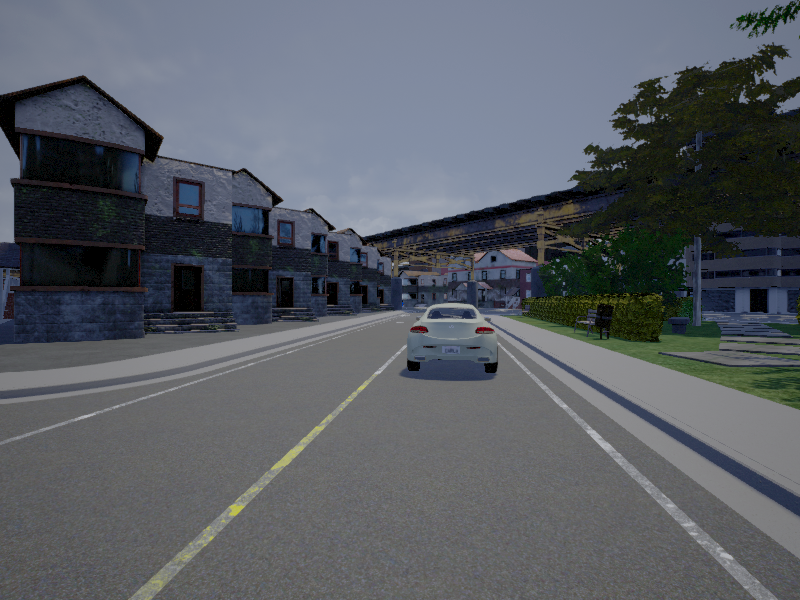Benign: (404, 305, 500, 376)
